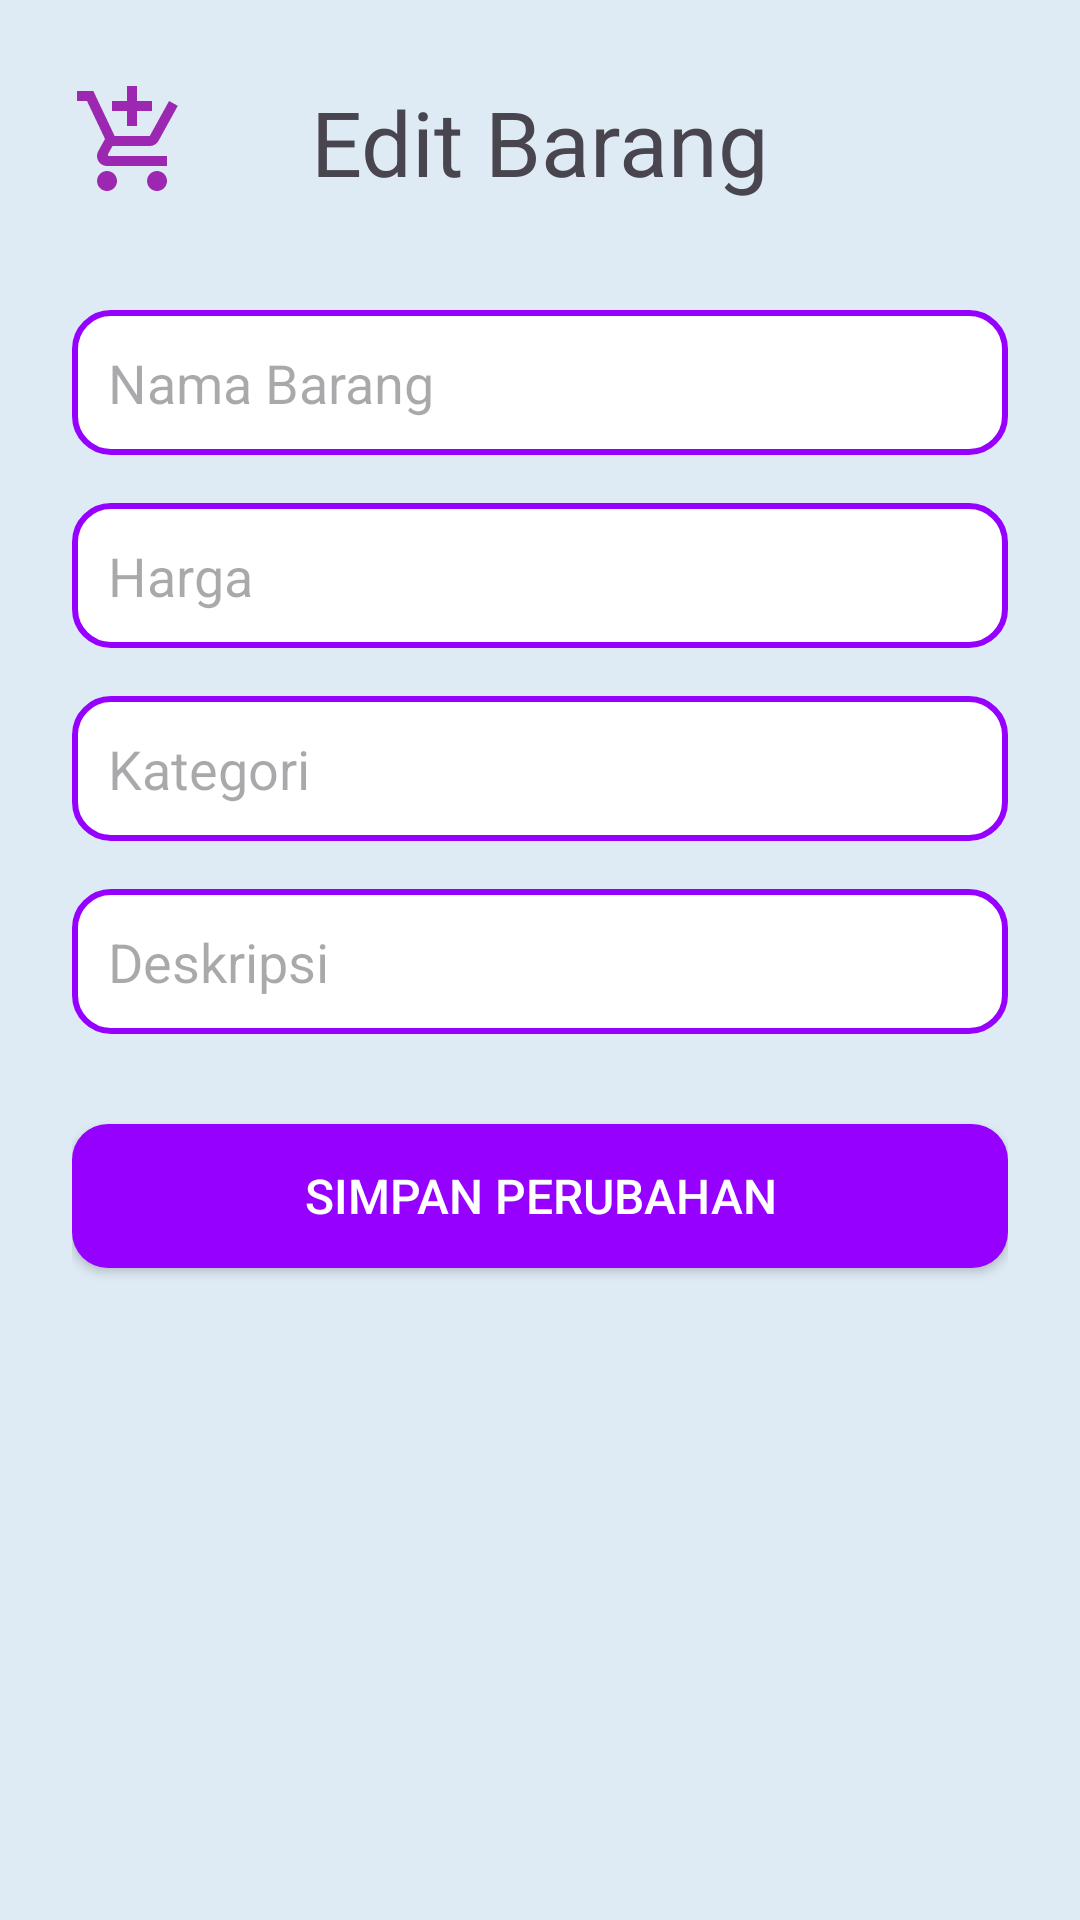

Locate icon controls on the screen. Image size 1080px x 1920px, boxes as {"left": x1, "top": y1, "right": x2, "bottom": y2}.
add shopping cart: {"left": 77, "top": 86, "right": 178, "bottom": 191}
